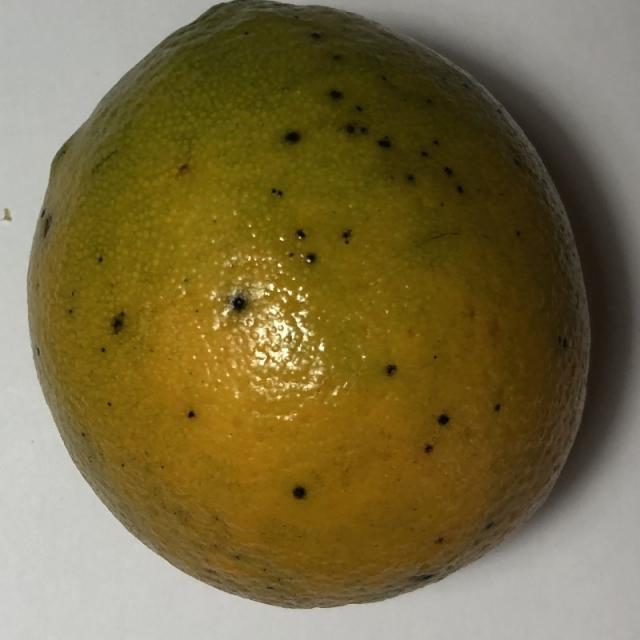blackspot: (14, 8, 610, 621)
